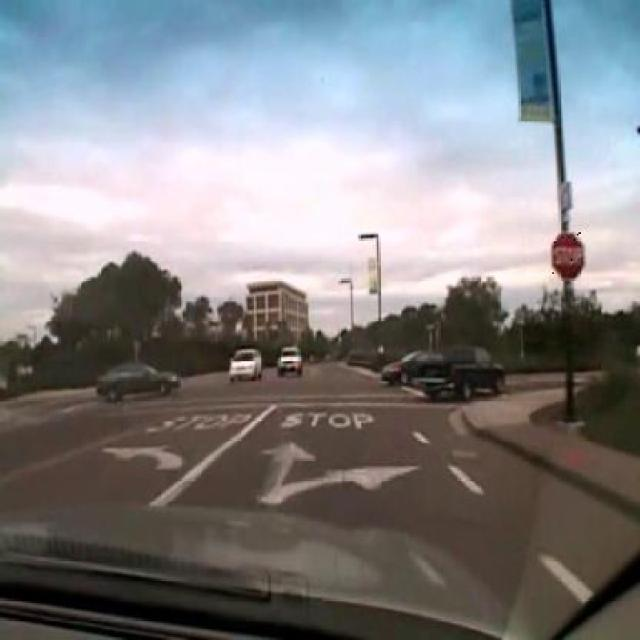stop: (551, 231, 586, 278)
